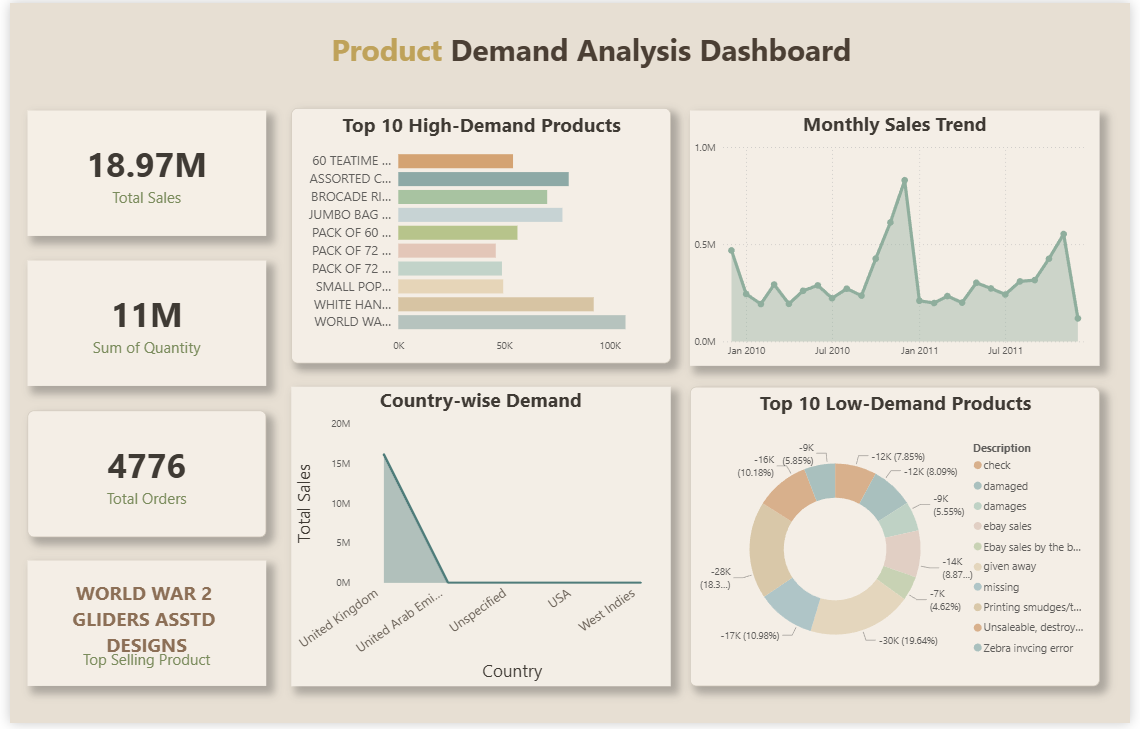

What the dashboard file says about the page in this screenshot:
{"tool":"powerbi","page":{"name":"Page 1","canvas":[1400,900],"ordinal":0},"visuals":[{"type":"card","fields":{"Values":["online_retail_II_copy.Total Sales"]},"box":[22.4,134.5,298.3,156.9],"z":0},{"type":"card","fields":{"Values":["Sum(online_retail_II_copy.Quantity)"]},"box":[22.4,322.4,298.3,156.9],"z":1000},{"type":"card","fields":{"Values":["online_retail_II_copy.Total Orders"]},"box":[22.4,508.6,298.3,158.6],"z":2000},{"type":"card","fields":{"Values":["online_retail_II_copy.Top Product"]},"box":[22.4,696.6,298.3,156.9],"z":3000},{"type":"clusteredBarChart","title":"Top 10 High-Demand Products","fields":{"Category":["online_retail_II_copy.Description","online_retail_II_copy.InvoiceDate.Variation.Date Hierarchy.Year","online_retail_II_copy.InvoiceDate.Variation.Date Hierarchy.Month"],"Y":["online_retail_II_copy.Total Quantity"]},"box":[351.7,131,474.1,319],"z":4000},{"type":"lineChart","title":"Monthly Sales Trend","fields":{"Category":["online_retail_II_copy.InvoiceDate.Variation.Date Hierarchy.Year","online_retail_II_copy.InvoiceDate.Variation.Date Hierarchy.Month"],"Y":["online_retail_II_copy.Total Sales"]},"box":[850,134.5,512.1,319],"z":5000},{"type":"areaChart","title":"Country-wise Demand","fields":{"Category":["online_retail_II_copy.Country"],"Y":["online_retail_II_copy.Total Sales"]},"box":[351.7,479.3,474.1,374.1],"z":6000},{"type":"textbox","box":[544.8,27.6,817.2,77.6],"z":7000},{"type":"textbox","box":[279.3,27.6,265.5,77.6],"z":8000},{"type":"donutChart","title":"Top 10 Low-Demand Products","fields":{"Category":["online_retail_II_copy.Description","online_retail_II_copy.InvoiceDate.Variation.Date Hierarchy.Year","online_retail_II_copy.InvoiceDate.Variation.Date Hierarchy.Month"],"Y":["online_retail_II_copy.Total Quantity"]},"box":[850,479.3,512.1,374.1],"z":9000}]}

Visuals, with their boxes in screenshot pixels (x1, y1, x2, y2), scaled from the page's 1400x900 canvas onto the 1140x729 screenshot:
card - online_retail_II_copy.Total Sales: [18, 109, 261, 236]
card - Sum(online_retail_II_copy.Quantity): [18, 261, 261, 388]
card - online_retail_II_copy.Total Orders: [18, 412, 261, 540]
card - online_retail_II_copy.Top Product: [18, 564, 261, 691]
"Top 10 High-Demand Products" clusteredBarChart: [286, 106, 672, 364]
"Monthly Sales Trend" lineChart: [692, 109, 1109, 367]
"Country-wise Demand" areaChart: [286, 388, 672, 691]
textbox: [444, 22, 1109, 85]
textbox: [227, 22, 444, 85]
"Top 10 Low-Demand Products" donutChart: [692, 388, 1109, 691]
